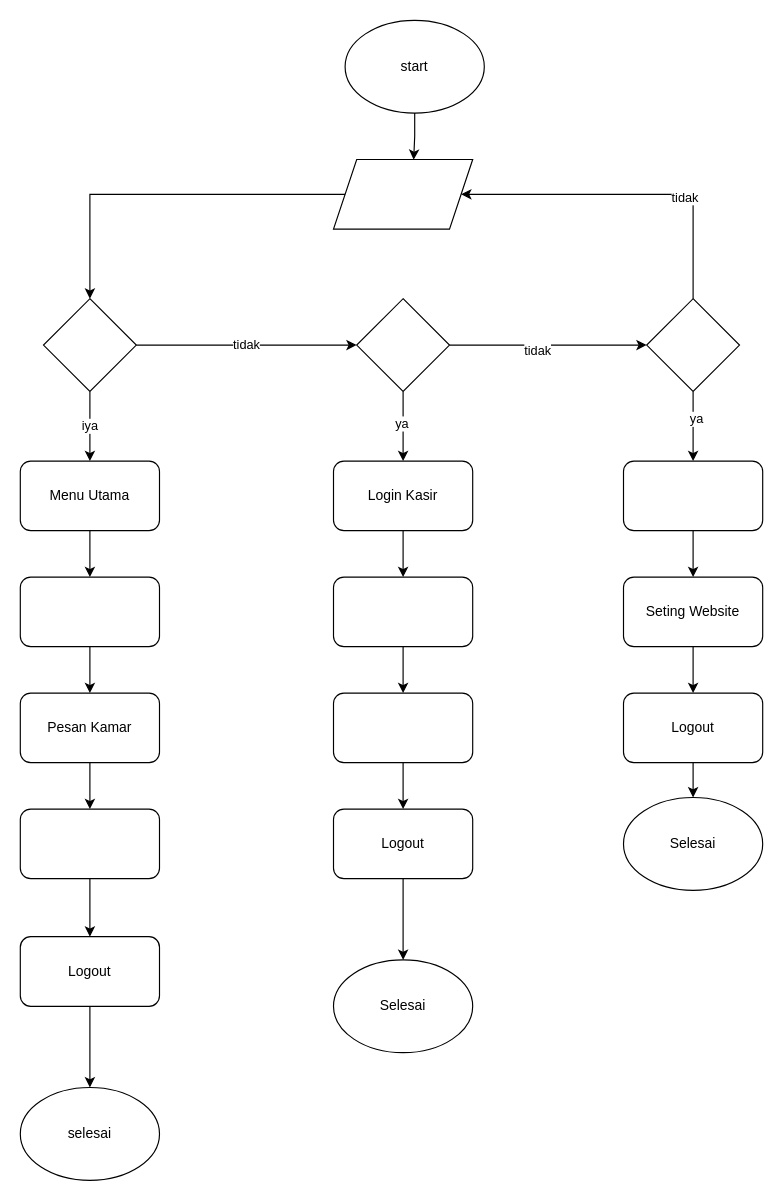
Some shapes in this 783 by 1201 pixel diagram are drawn without their labels. Here are the shapes that lost their labels. From the top down, the box of each, then its label:
(332, 158, 473, 229): Login
(622, 460, 763, 531): Login Admin
(19, 576, 160, 647): Pilihan Kamar
(332, 576, 473, 647): Verifikasi Pembayaran
(332, 692, 473, 763): Kirimkan Barcode/Bukti Pemesanan
(19, 808, 160, 879): Rating
